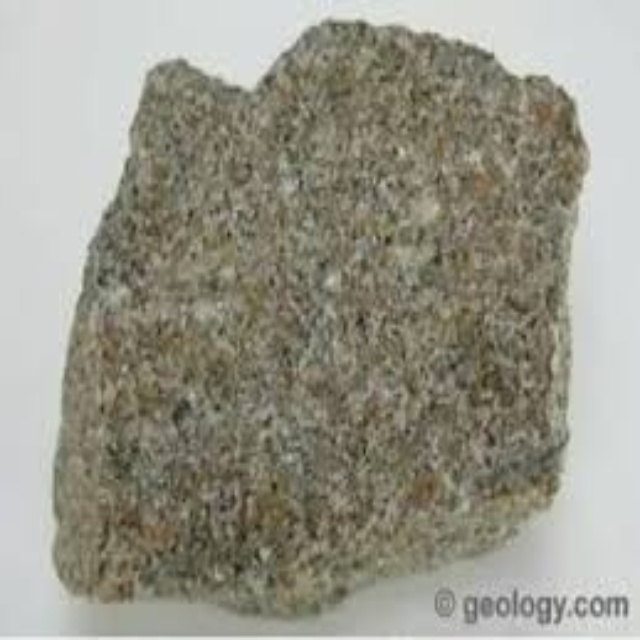obstacle: (54, 23, 586, 610)
